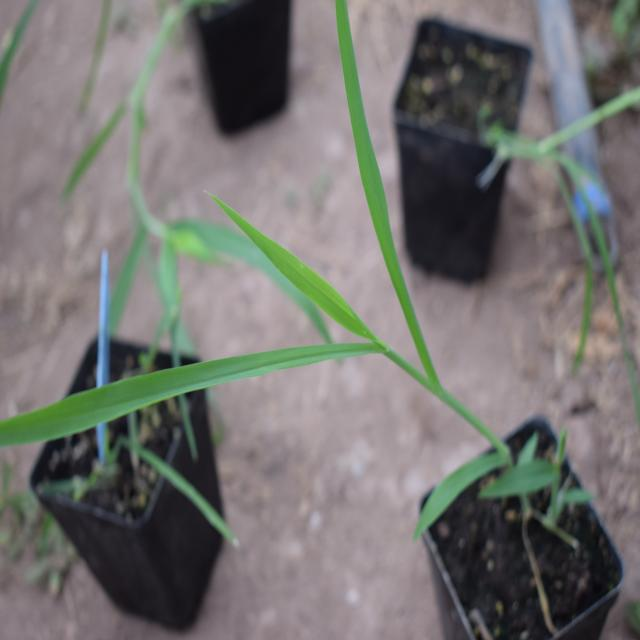crabgrass: (0, 73, 494, 489)
